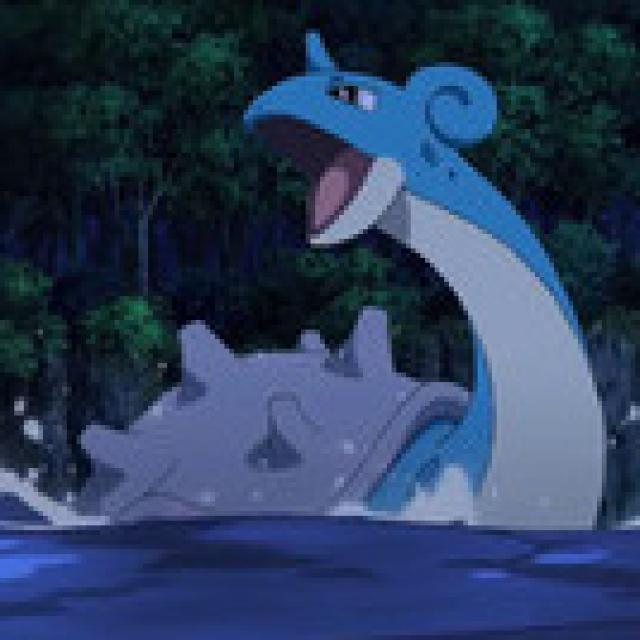Lapras: (76, 29, 609, 522)
